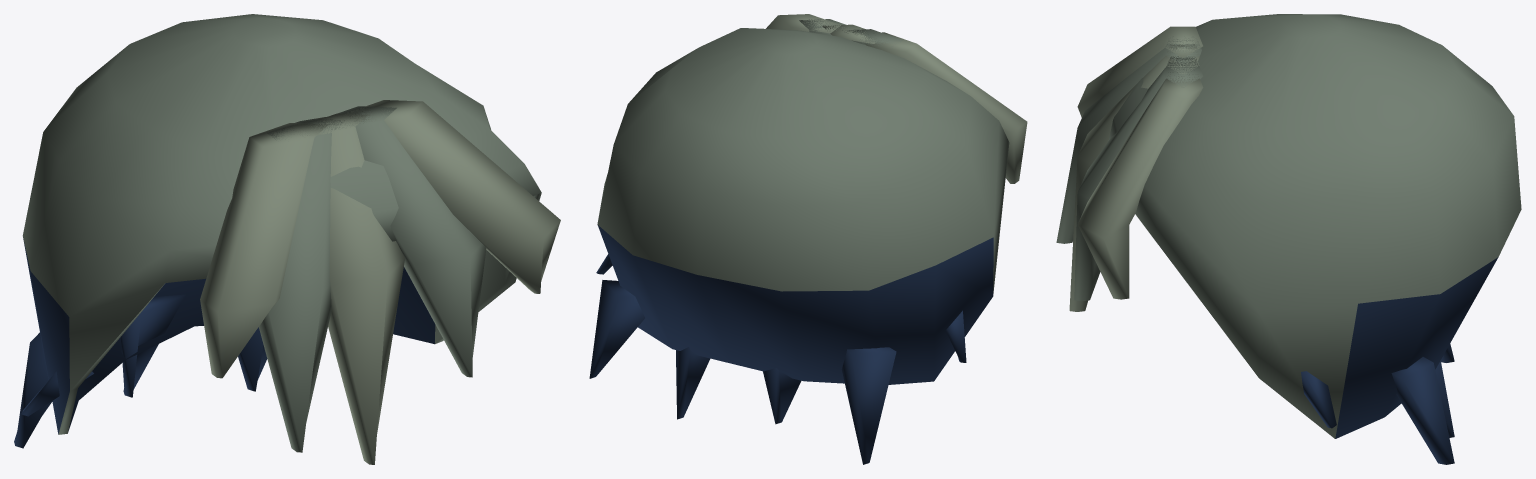
Rendered from hair_ref10_09.glb.
3 renders of one model, left to right at view 1: azimuth 30°, elevation 25°; view 2: azimuth 150°, elevation 25°; view 3: azimuth 270°, elevation 25°, orthographic. The views are drawn at different scales.
Visible parts, largest first — view 1: HairCap, AnimeFront_0, AnimeFront_2, AnimeFront_4, AnimeFront_3, AnimeFront_1, BlueBackSpike_1, BlueBackSpike_0, BlueBackSpike_2, BlueTemple_-1; view 2: HairCap, BlueBackSpike_0, AnimeFront_0, BlueBackSpike_3, BlueBackSpike_2, BlueBackSpike_1, AnimeFront_4, BlueTemple_-1, AnimeFront_2, AnimeFront_1; view 3: HairCap, AnimeFront_4, AnimeFront_3, BlueBackSpike_3, AnimeFront_1, AnimeFront_2, AnimeFront_0, BlueTemple_1, BlueBackSpike_2.
Part boxes in pixels (<box>): HairCap: <box>22,14,541,434</box>; AnimeFront_0: <box>200,123,328,378</box>; AnimeFront_2: <box>293,113,404,464</box>; AnimeFront_4: <box>345,100,560,293</box>; AnimeFront_3: <box>320,106,486,377</box>; AnimeFront_1: <box>259,119,344,452</box>; BlueBackSpike_1: <box>120,294,185,397</box>; BlueBackSpike_0: <box>14,332,52,448</box>; BlueBackSpike_2: <box>238,327,267,391</box>; BlueTemple_-1: <box>21,371,93,416</box>; HairCap: <box>597,28,1009,384</box>; BlueBackSpike_0: <box>841,347,896,464</box>; AnimeFront_0: <box>864,32,1027,183</box>; BlueBackSpike_3: <box>589,280,644,378</box>; BlueBackSpike_2: <box>676,347,710,419</box>; BlueBackSpike_1: <box>763,368,801,424</box>; AnimeFront_4: <box>766,14,840,33</box>; BlueTemple_-1: <box>945,310,966,362</box>; AnimeFront_2: <box>822,24,876,43</box>; AnimeFront_1: <box>842,29,902,48</box>; HairCap: <box>1108,14,1521,438</box>; AnimeFront_4: <box>1077,69,1203,299</box>; AnimeFront_3: <box>1074,56,1203,301</box>; BlueBackSpike_3: <box>1391,357,1454,464</box>; AnimeFront_1: <box>1056,36,1201,243</box>; AnimeFront_2: <box>1069,44,1199,311</box>; AnimeFront_0: <box>1077,26,1202,117</box>; BlueTemple_1: <box>1301,371,1336,428</box>; BlueBackSpike_2: <box>1435,360,1454,437</box>.
Size of the model in its own units: 0.404 by 0.356 by 0.3919.
